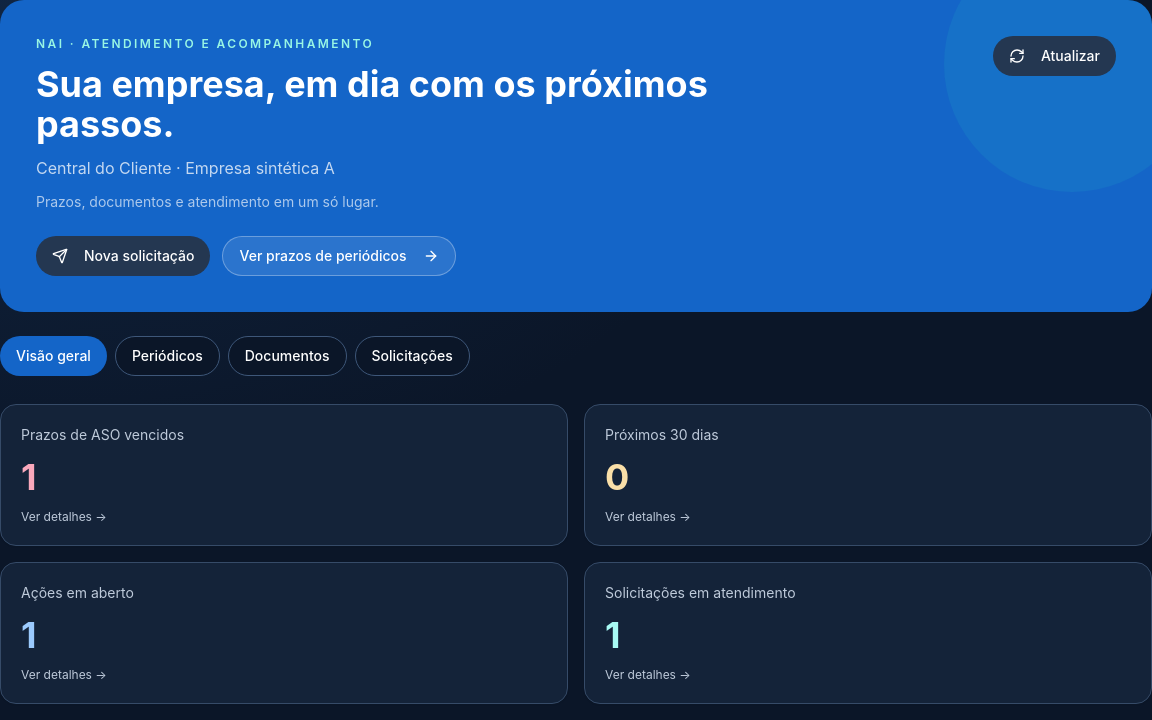
Test: client central workflows › shows documents and prepares a document request
Click the button "Documentos" at point(287, 356), box x1=228 y1=336 x2=347 y2=376
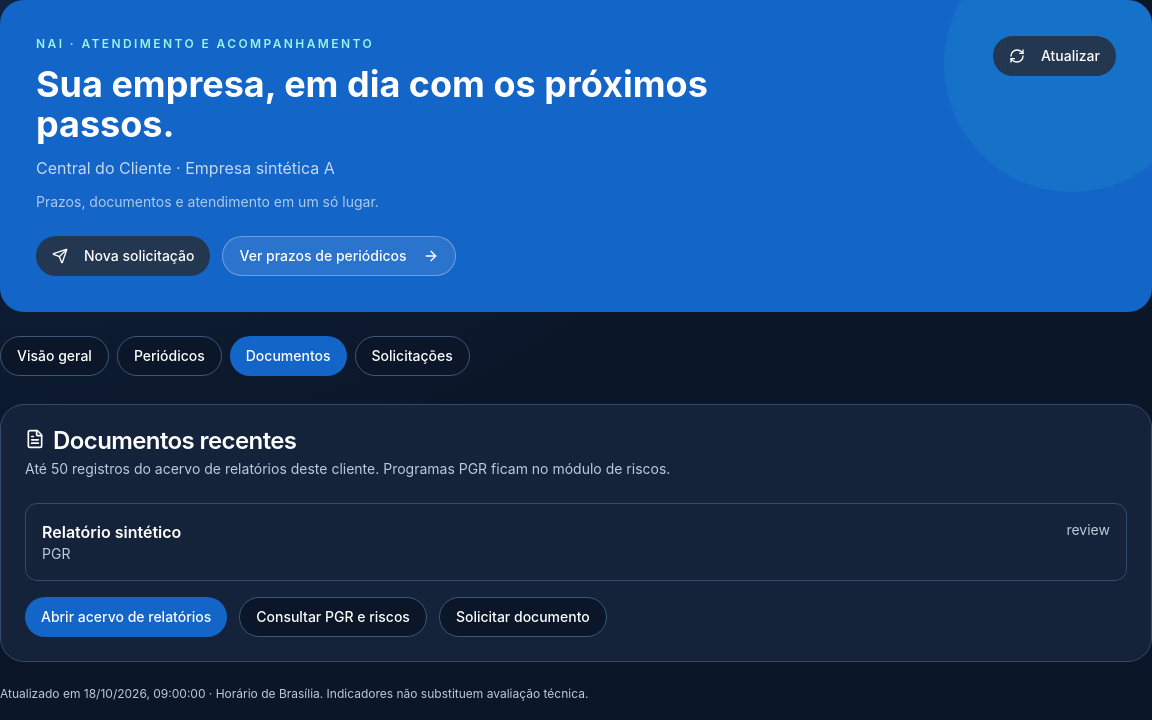
Expected: the text "Relatório sintético" is shown, x1=42 y1=520 x2=181 y2=544
Expected: the button "Solicitar documento" is shown
Click the button "Solicitar documento" at point(523, 617), box x1=439 y1=597 x2=607 y2=637
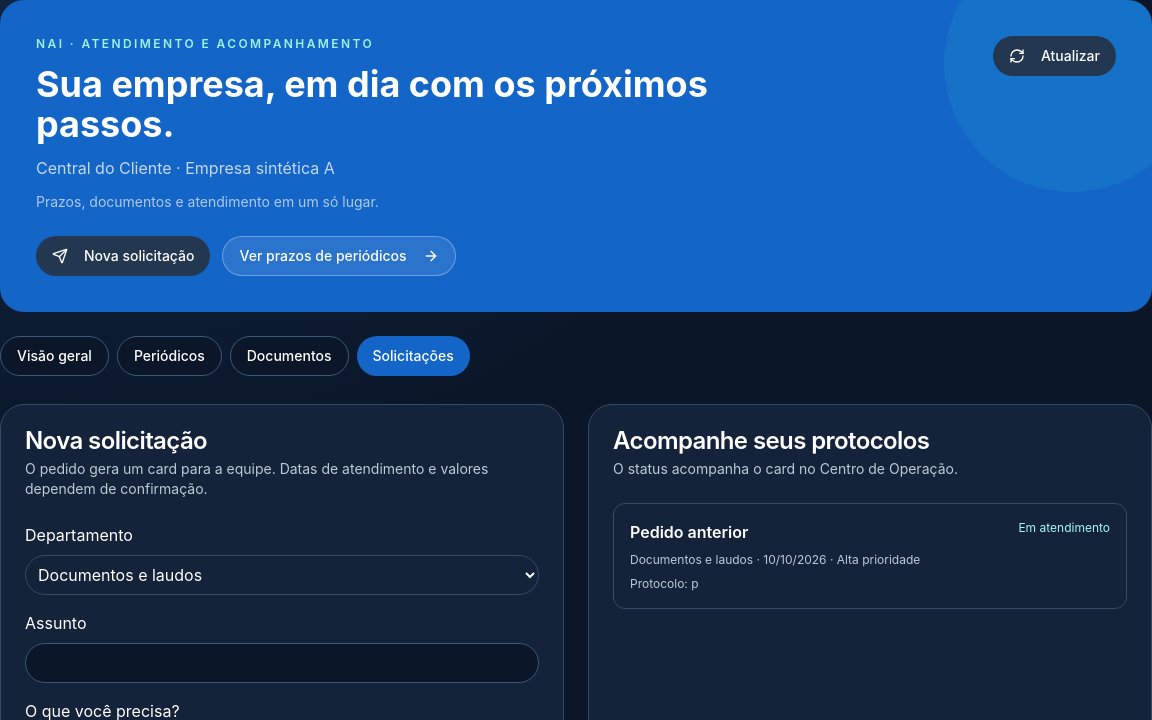
Expected: the dropdown with id "request-department" shows "Documentos e laudos", x1=25 y1=555 x2=539 y2=595
